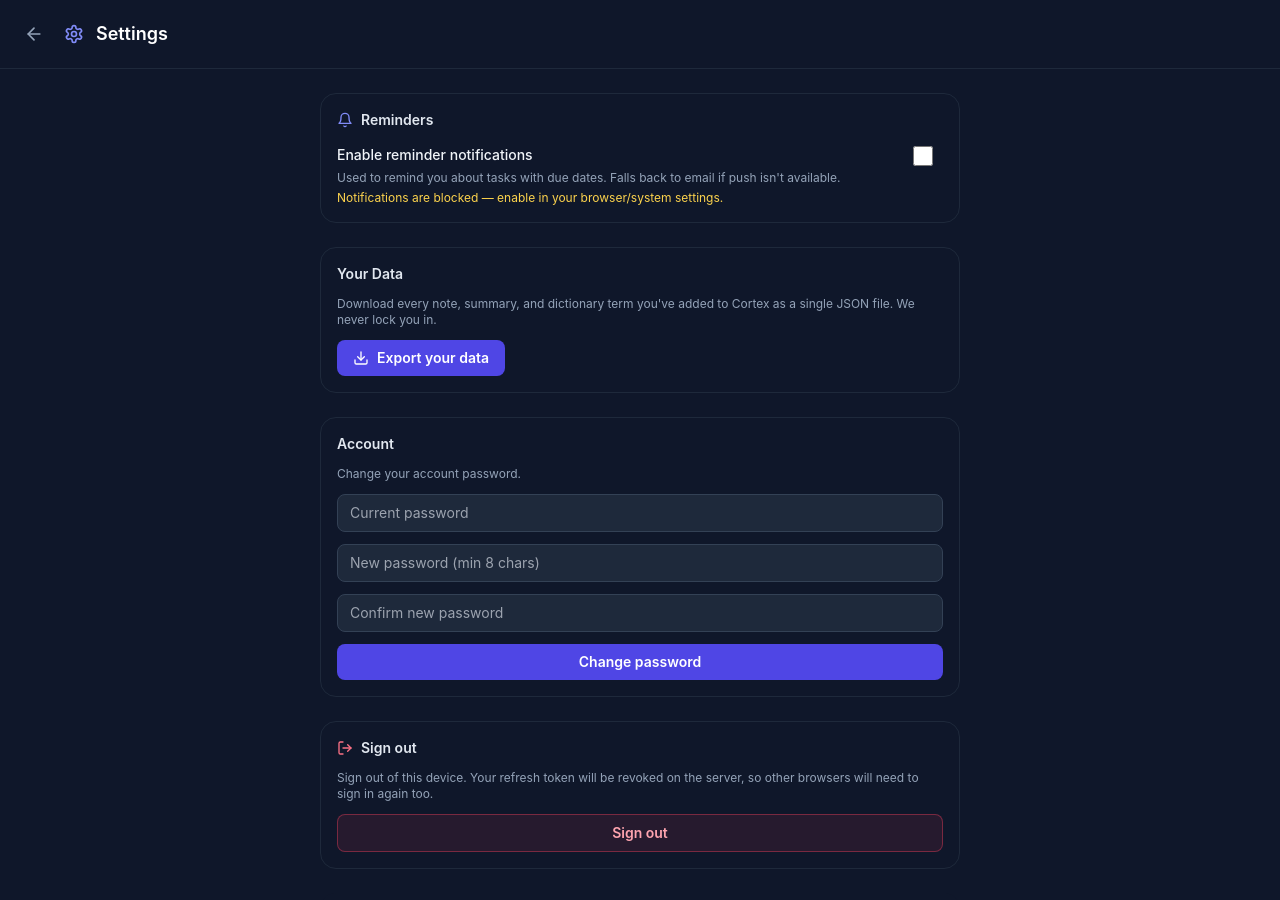
SettingsPage — change password section (Round 15 / PR #23) › change-password success shows confirmation
Type "oldpass99" into the password field labelled "Current password" at (640, 513), box [337,494,943,532]
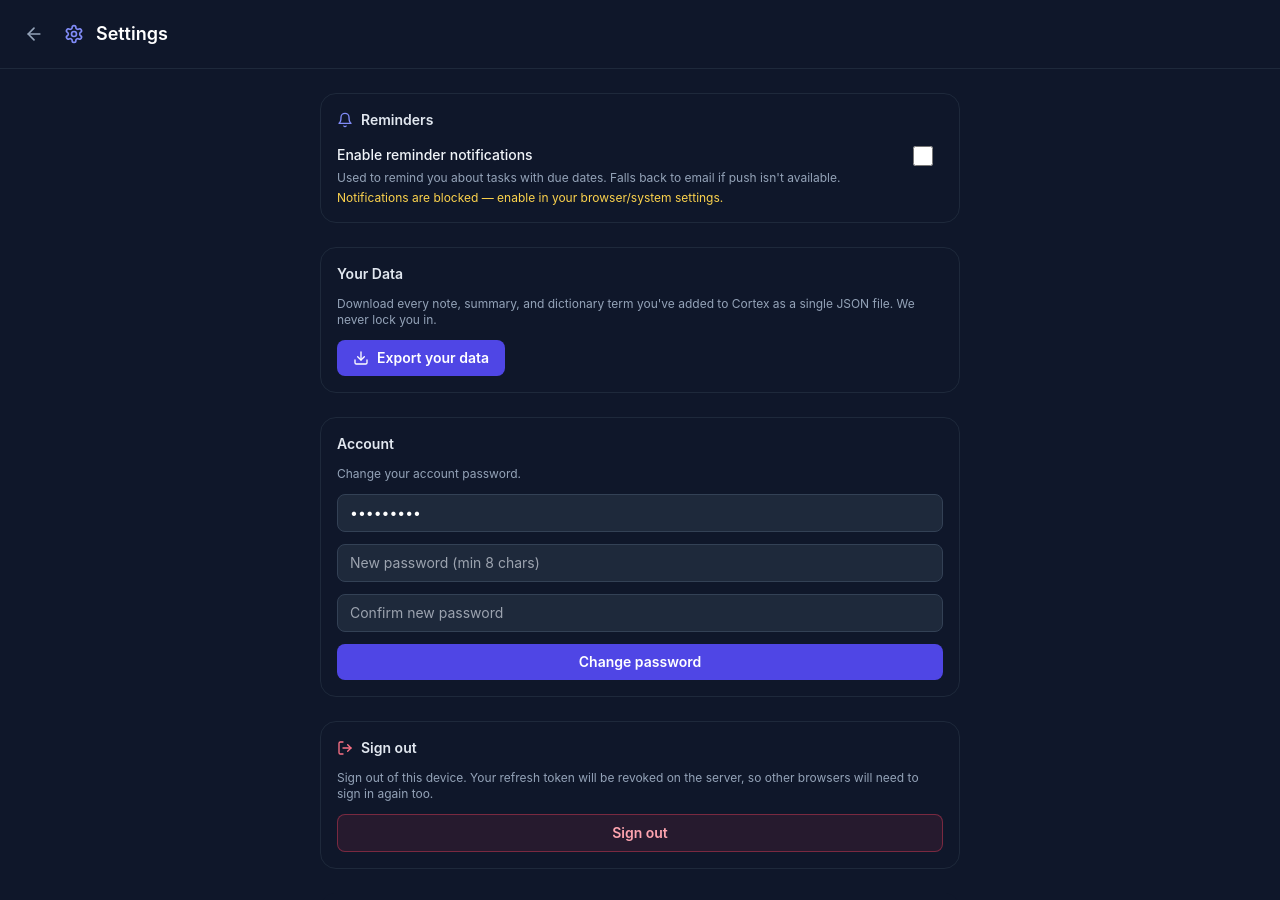
Type "newpass99" into the password field labelled "New password (min 8 chars)" at (640, 563), box [337,544,943,582]
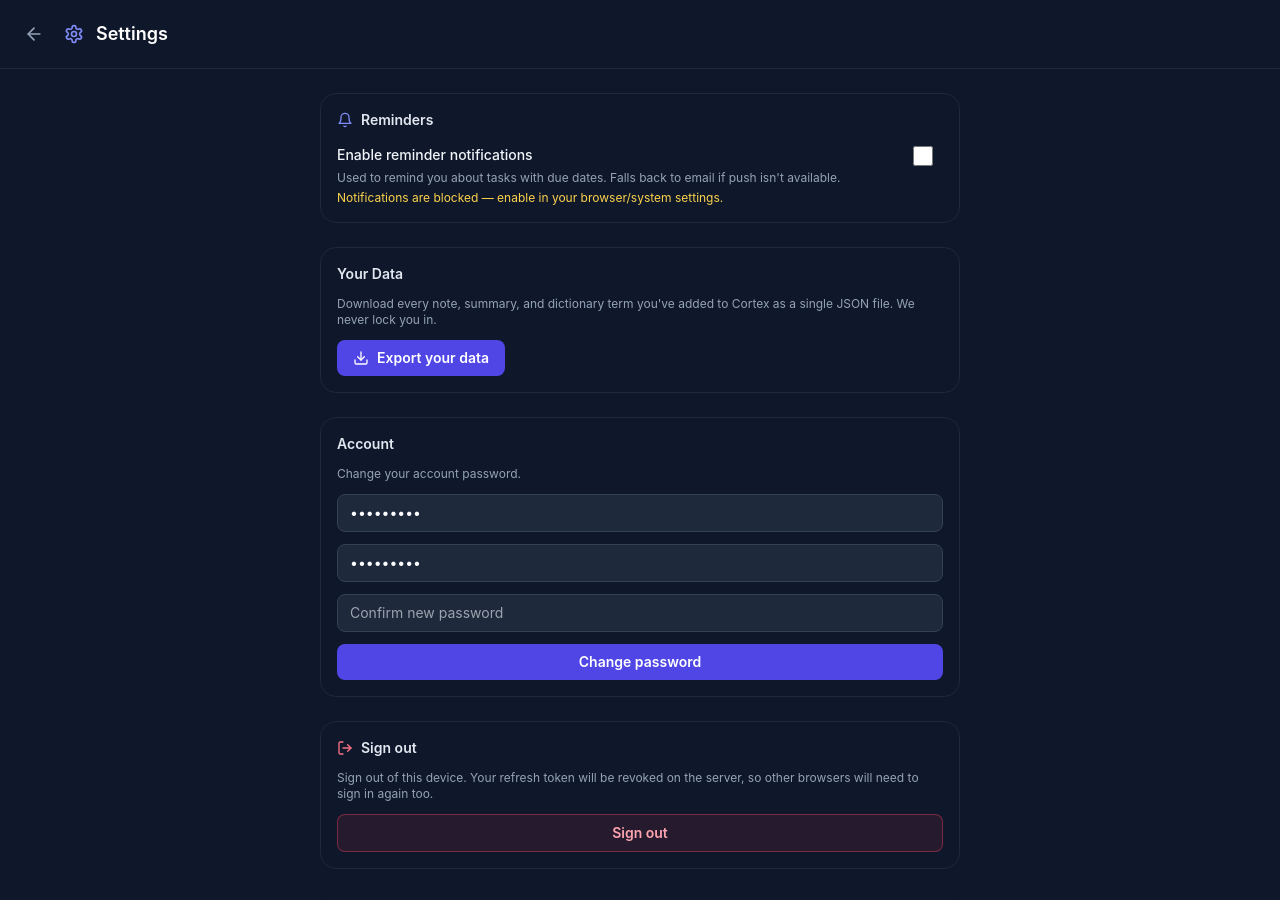
Type "newpass99" into the password field labelled "Confirm new password" at (640, 613), box [337,594,943,632]
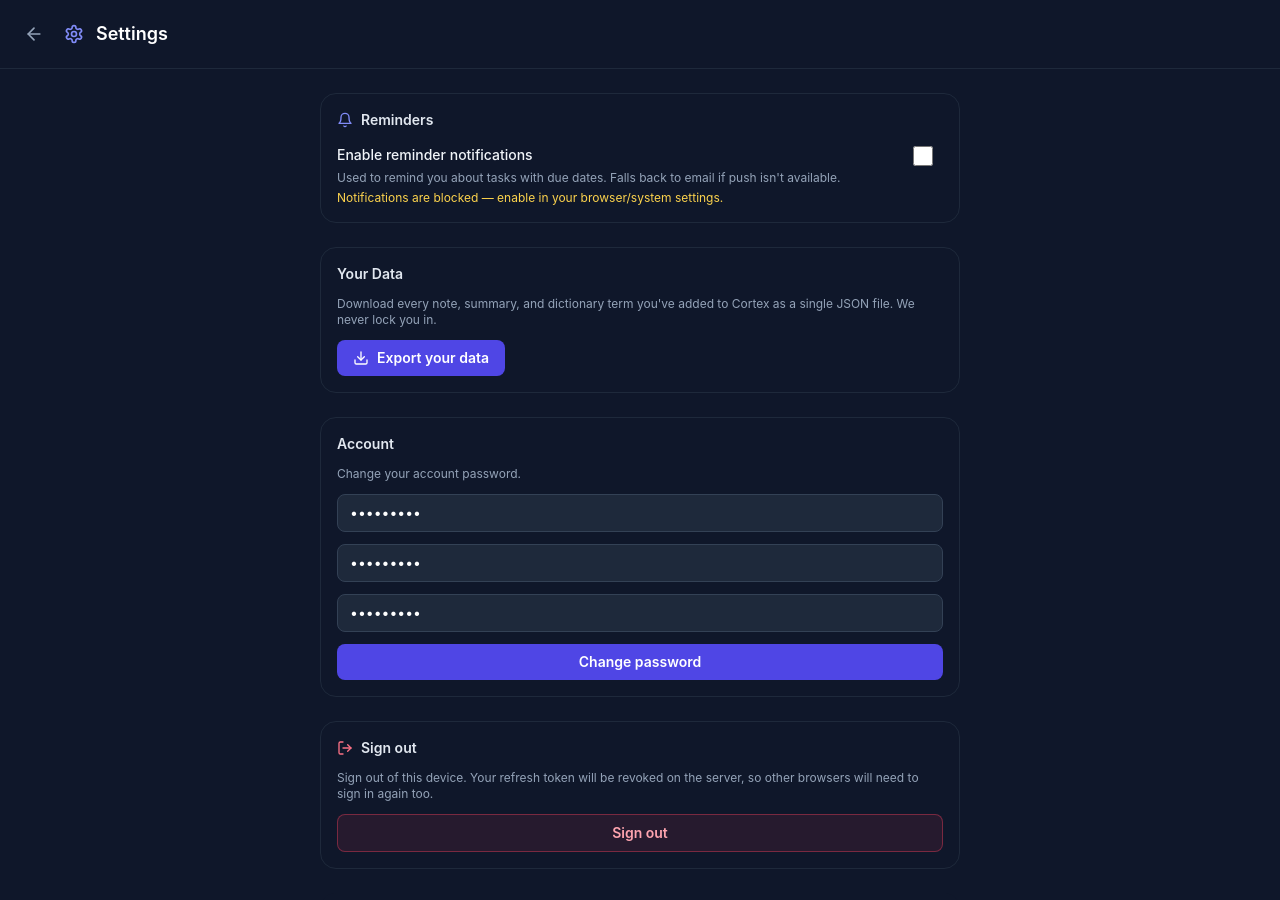
Click the button "Change password" at (640, 662), box [337,644,943,680]
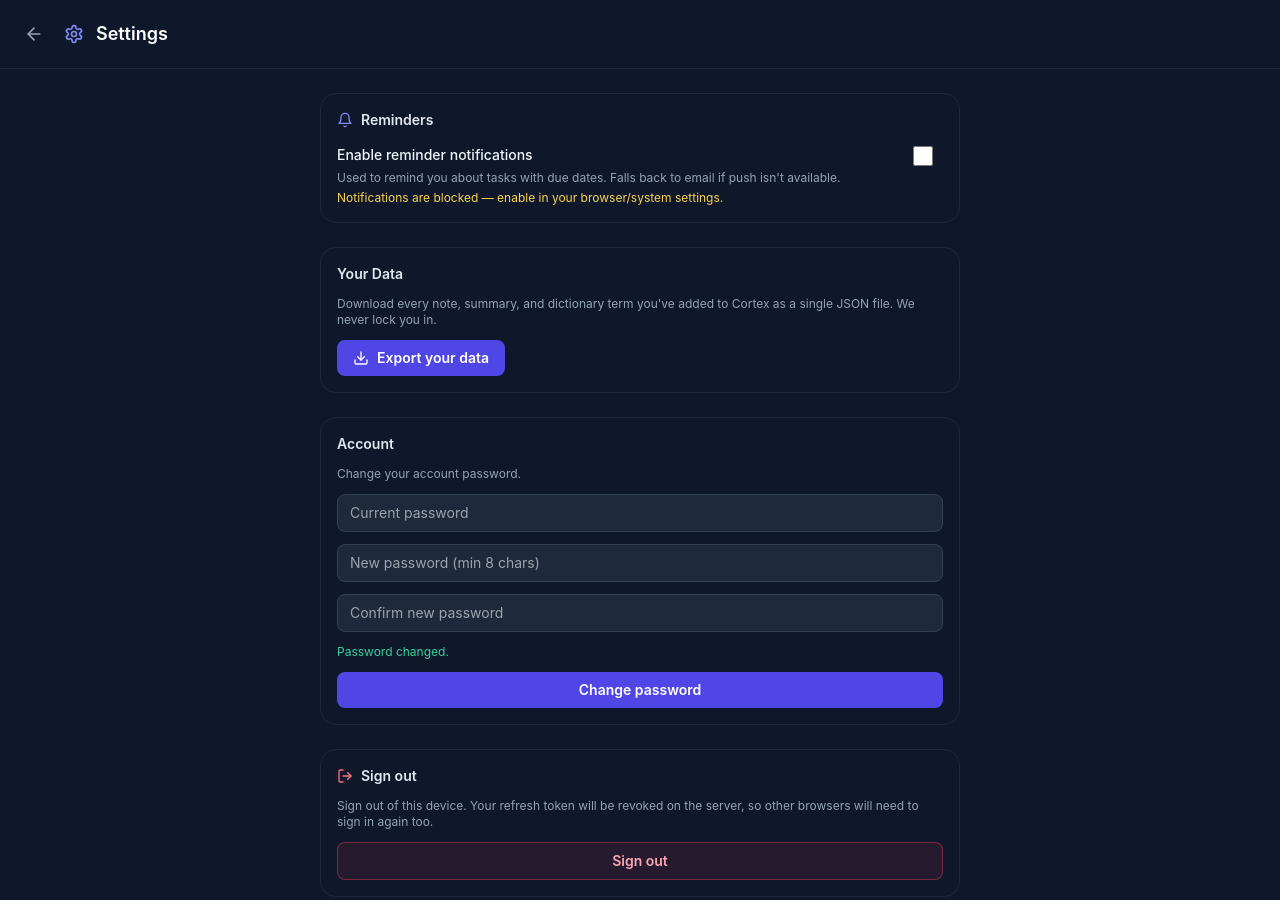
expect the text "Password changed." is shown: met, box [337,644,449,659]
